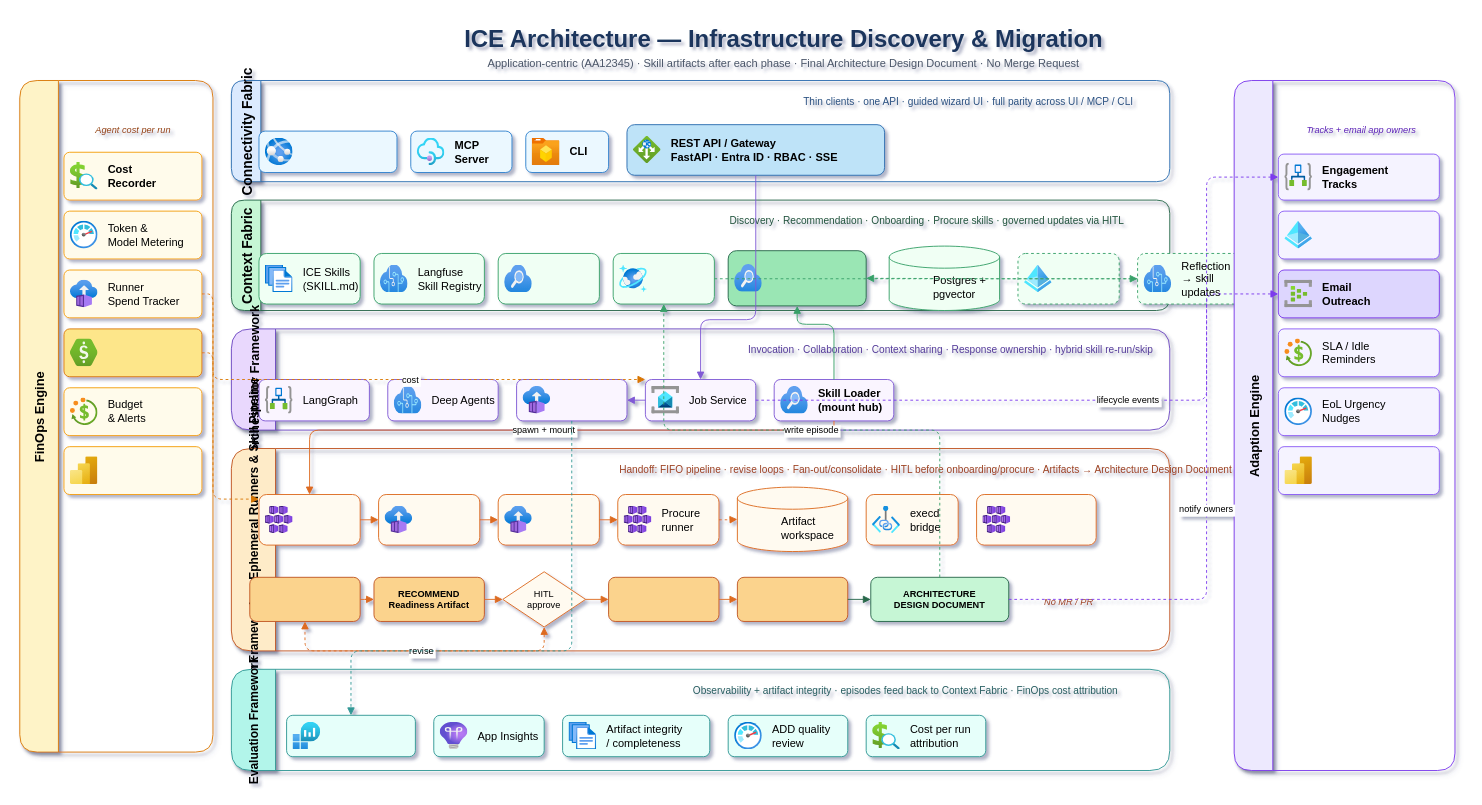
The diagram is 1482 pixels wide and 805 high, and some of its shapes have lost their labels. Each missing label, with the centre of its shape:
"Agent Orchestrator" belongs at point (571, 400).
"App / Skill Cost Rollups" belongs at point (132, 470).
"App Owner Contacts" belongs at point (1358, 234).
"DISCOVERY Inventory Artifact" belongs at point (304, 598).
"Discovery runner" belongs at point (429, 519).
"Email Event Audit" belongs at point (1358, 470).
"Episodic memory" belongs at point (663, 278).
"Guided Wizard UI" belongs at point (327, 151).
"Knowledge / Skill Service" belongs at point (796, 278).
"Langfuse traces" belongs at point (350, 735).
"Migration TCO Model" belongs at point (132, 352).
"ONBOARD Blueprint Artifact" belongs at point (663, 598).
"Onboarding runner" belongs at point (548, 519).
"PROCURE Manifest Artifact" belongs at point (792, 598).
"Sandbox Provisioner" belongs at point (309, 519).
"Semantic memory" belongs at point (548, 278).
"Skill-review HITL" belongs at point (1068, 278).
"UK8S / Cloud / Infra APIs" belongs at point (1036, 519).
